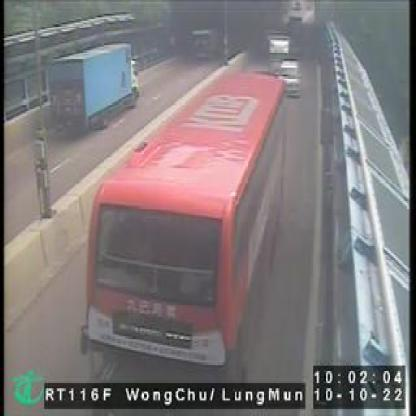Bus: (78, 69, 286, 416)
Car: (282, 60, 302, 98)
Truck: (46, 39, 139, 139), (264, 30, 291, 76)
